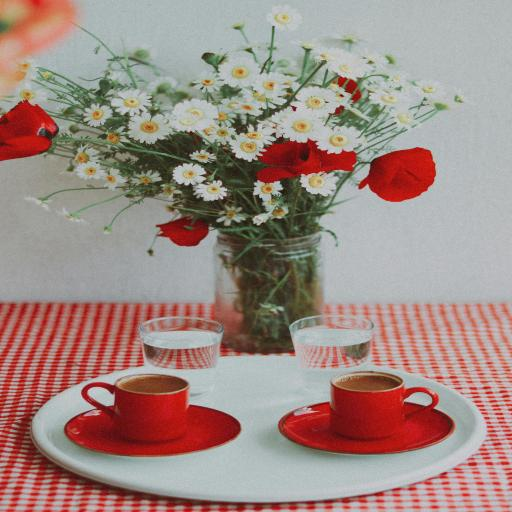cup: (330, 370, 438, 441), (82, 373, 190, 443)
